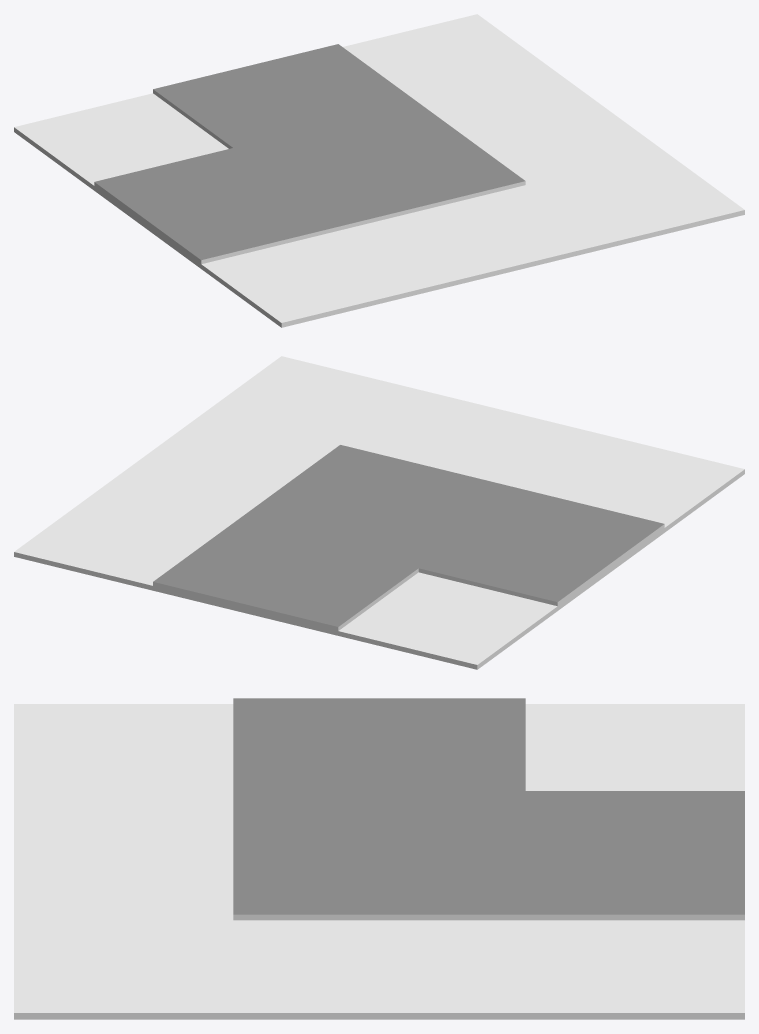
File: road-pholder-corner.obj
3 views of the same model, one above another, from view 1: azimuth 30°, elevation 25°; view 2: azimuth 150°, elevation 25°; view 3: azimuth 270°, elevation 25° (orthographic). The views are drawn at different scales.
Visible parts, largest first — view 1: Cube.002; view 2: Cube.002; view 3: Cube.002.
Boxes of the visible parts, box(x1,y1,x2,y2) form: Cube.002: box(14, 14, 744, 327); Cube.002: box(14, 356, 744, 669); Cube.002: box(14, 698, 744, 1019).
Bounding box in the file's own units: 2 × 0.0367 × 2.
Materials: 1 (1 with a texture image).
